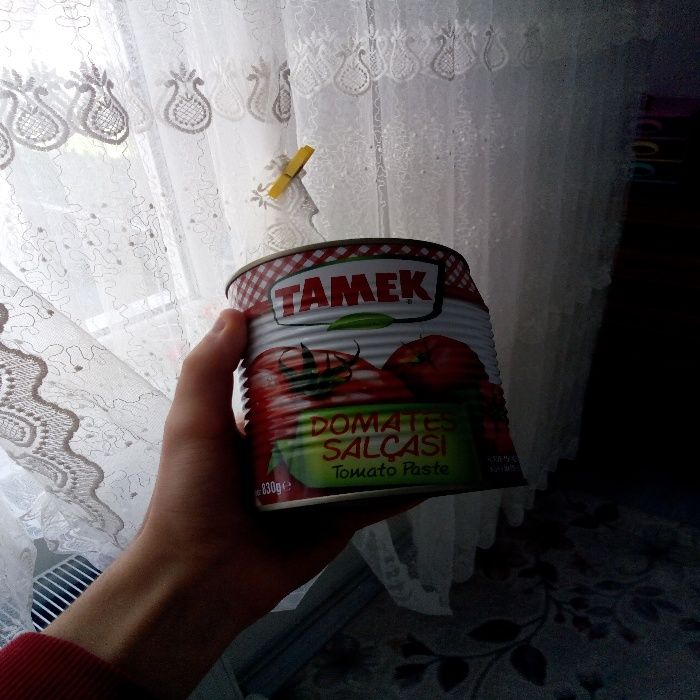salca: (202, 221, 536, 506)
